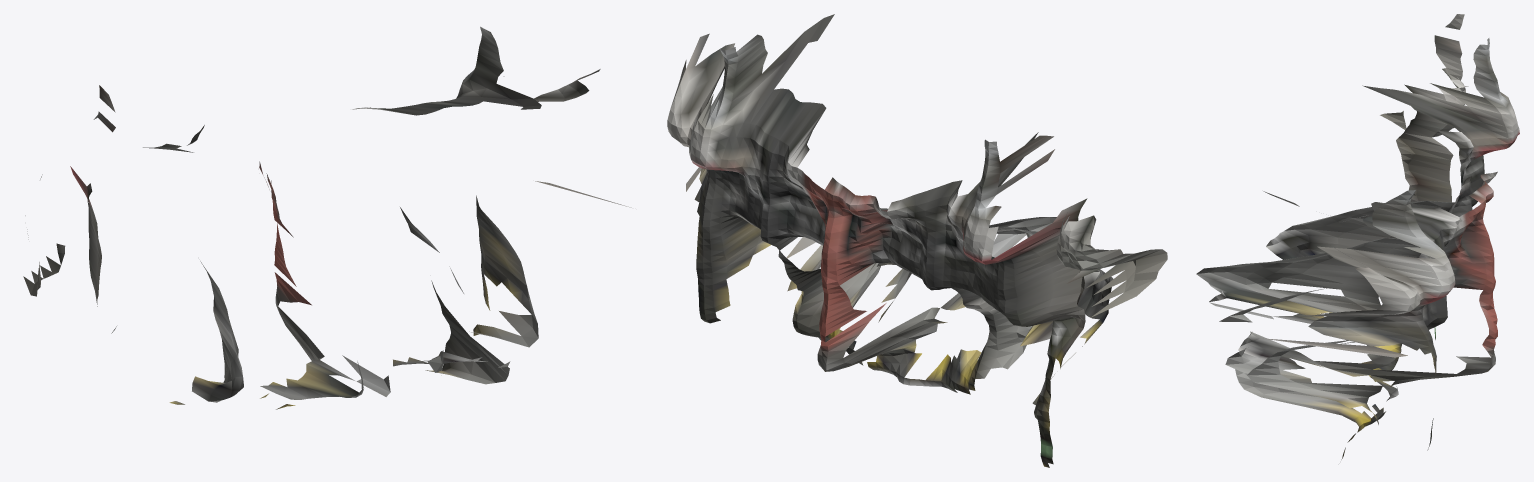
The model's file is cart-observed.glb.
3 views of the same model, side by side, from view 1: azimuth 30°, elevation 25°; view 2: azimuth 150°, elevation 25°; view 3: azimuth 270°, elevation 25° (orthographic). The views are drawn at different scales.
Parts seen in each view (by area): view 1: geometry_0; view 2: geometry_0; view 3: geometry_0.
Part boxes in pixels (x1,y1,x2,y2): geometry_0: [23, 26, 631, 409]; geometry_0: [667, 14, 1167, 467]; geometry_0: [1196, 14, 1519, 459].
Size of the model in its own units: 2.63 by 1.74 by 1.57.
